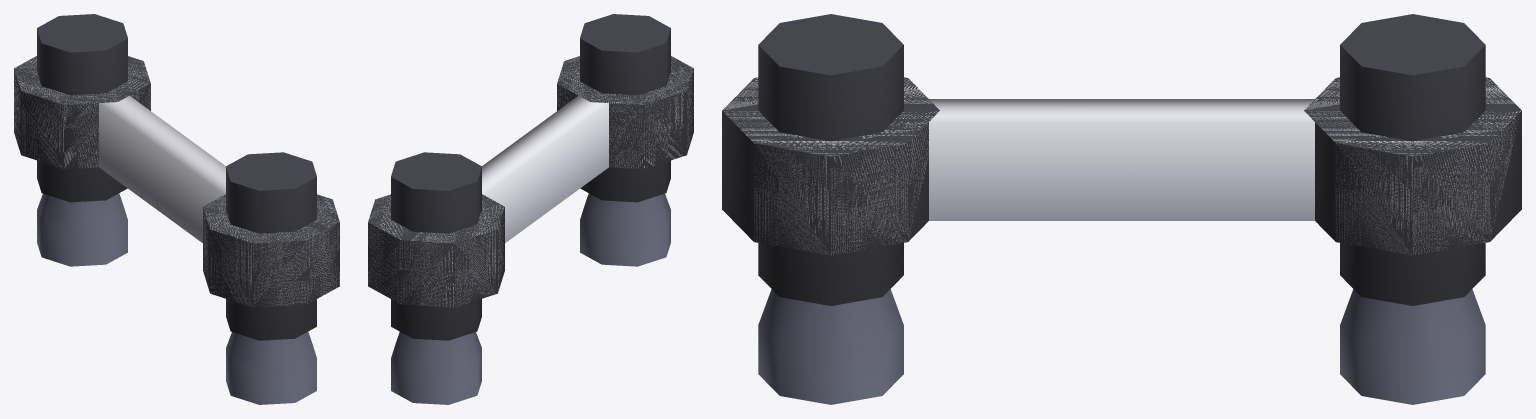
File: structure-yellow-short.obj
The picture shows the model from 3 angles, left to right: view 1: azimuth 30°, elevation 25°; view 2: azimuth 150°, elevation 25°; view 3: azimuth 270°, elevation 25°; orthographic projection. The views are drawn at different scales.
Parts seen in each view (by area): view 1: structure-yellow-short; view 2: structure-yellow-short; view 3: structure-yellow-short.
Part boxes in pixels (x1=…): structure-yellow-short: x1=14, y1=14, x2=339, y2=404; structure-yellow-short: x1=368, y1=14, x2=693, y2=404; structure-yellow-short: x1=722, y1=14, x2=1521, y2=404.
Size of the model in its own units: 0.3 by 0.5 by 1.1.
